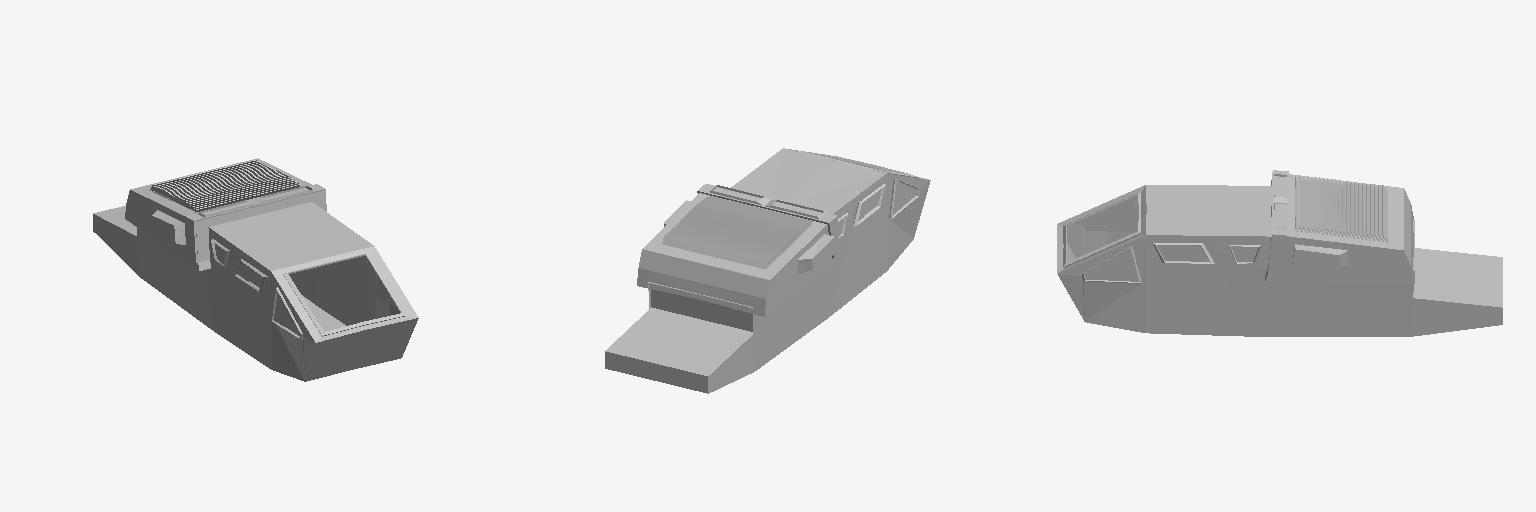
Rendered from ripsawTEST.obj.
3 renders of one model, left to right at view 1: azimuth 30°, elevation 25°; view 2: azimuth 150°, elevation 25°; view 3: azimuth 270°, elevation 25°, orthographic.
Visible parts, largest first — view 1: default; view 2: default; view 3: default.
Boxes of the visible parts, box(x1,y1,x2,y2) form: default: box(93, 158, 418, 381); default: box(605, 148, 930, 393); default: box(1057, 170, 1502, 336).
Bounding box in the file's own units: 2.48 × 1.78 × 6.42.